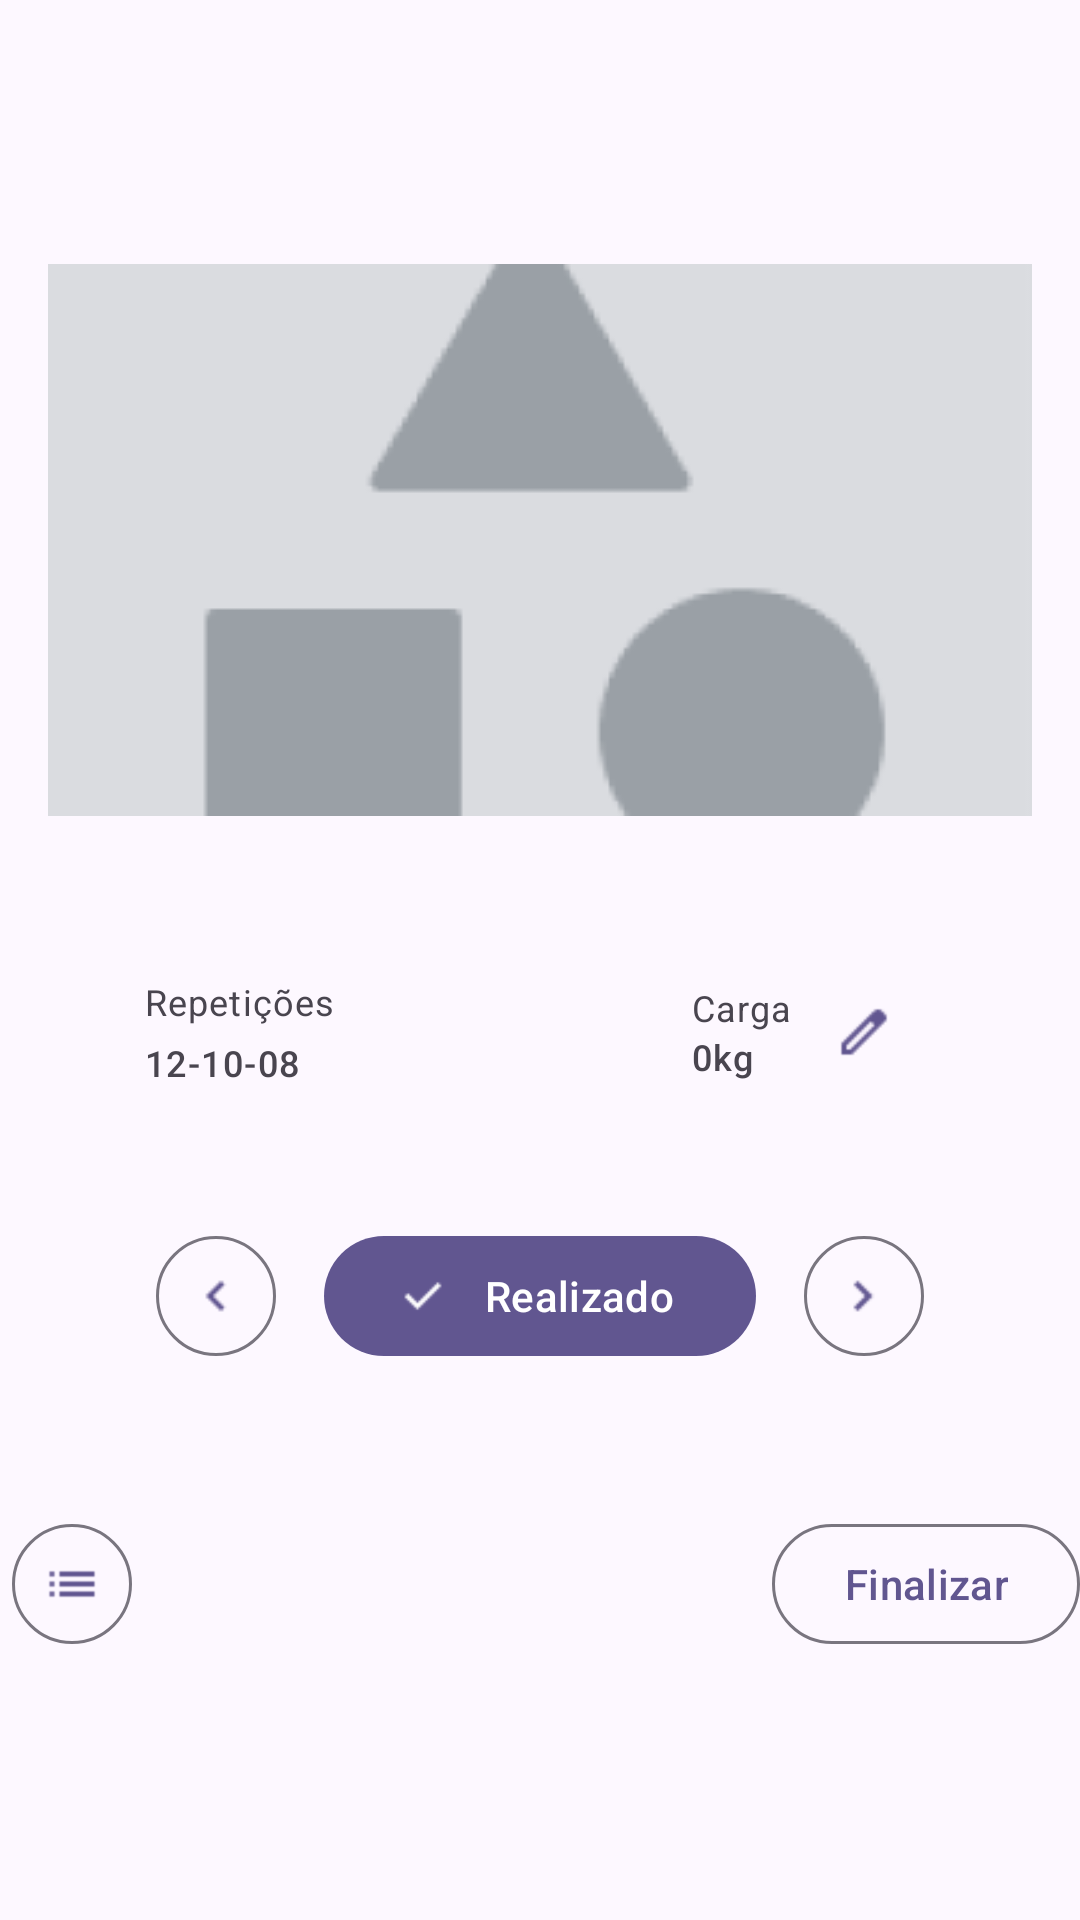

Screen size 1080x1920. Icon name, then its box in pixels as [left=x1, top=y1, right=x2, bottom=y2]:
edit: [left=841, top=1009, right=887, bottom=1055]
list: [left=12, top=1524, right=132, bottom=1644]
navigate before: [left=156, top=1236, right=276, bottom=1356]
navigate next: [left=804, top=1236, right=924, bottom=1356]
